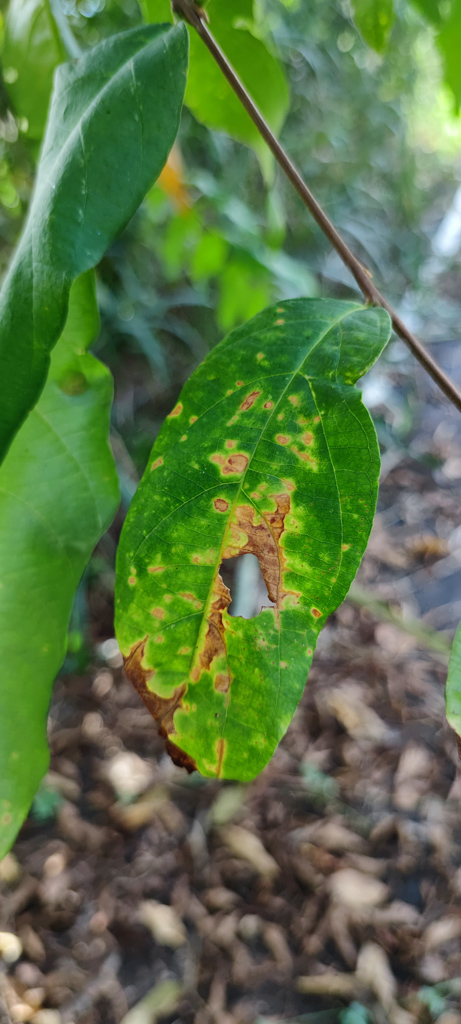Alternaria brassicicola: (112, 303, 377, 786)
